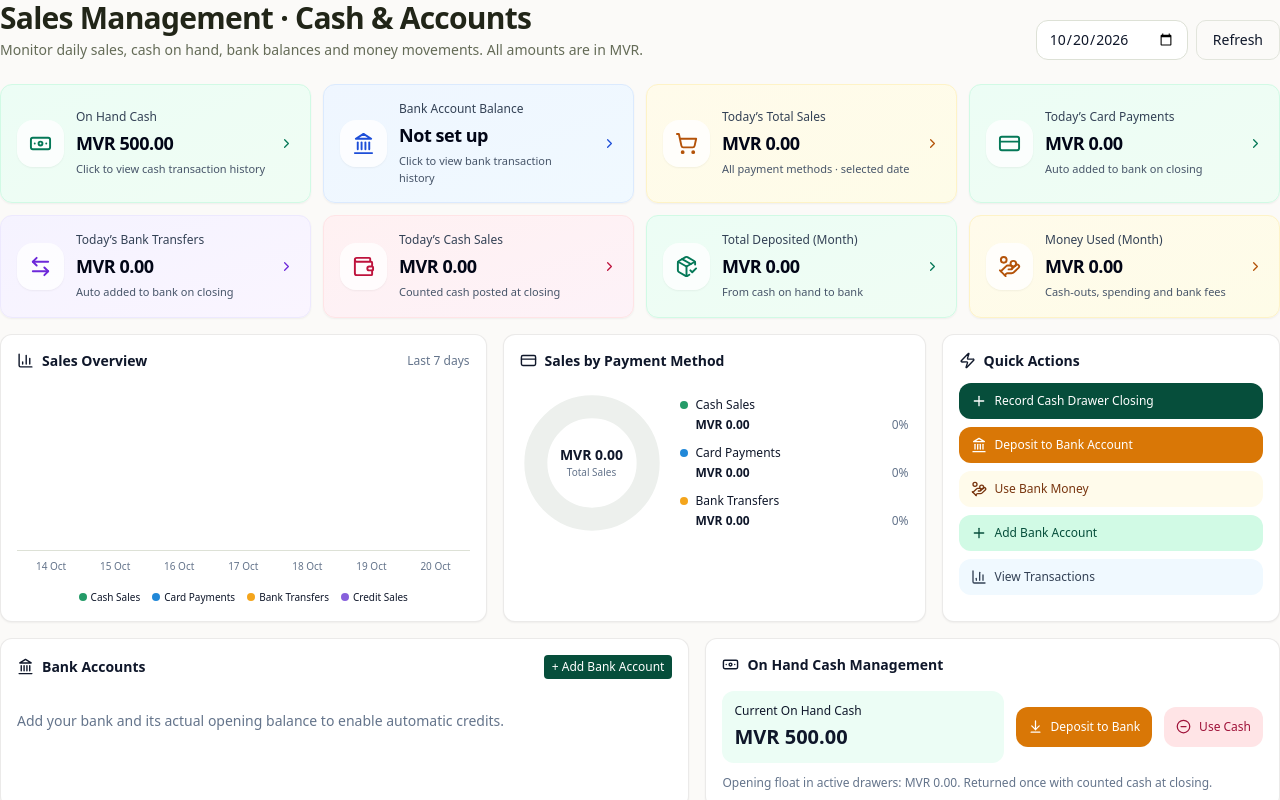
Scenario: Sales Finance › provides bank setup from a deposit with no bank accounts
The image size is (1280, 800).
Click the button "Deposit to Bank Account": (1111, 444) x1=958 y1=426 x2=1263 y2=462
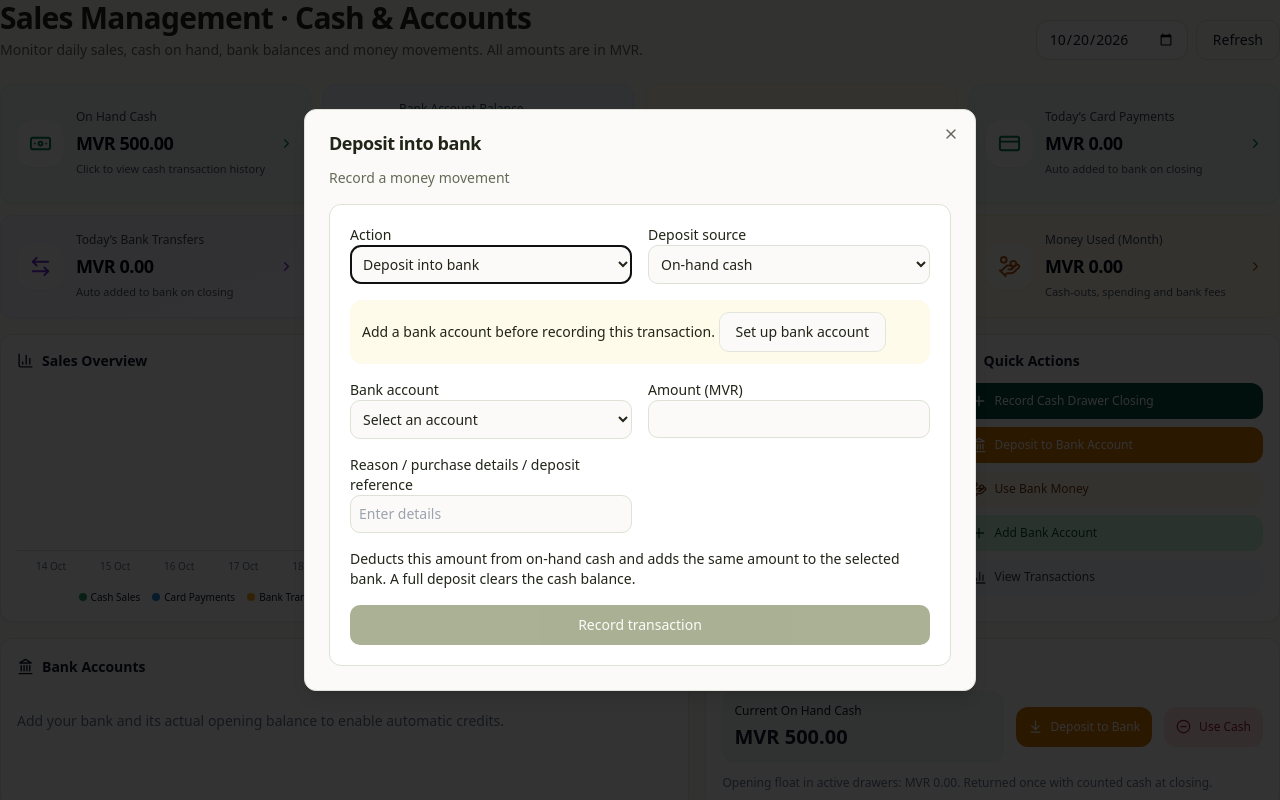
Check: the button "Record transaction" is disabled, box x1=350 y1=605 x2=930 y2=645
Click the button "Set up bank account": (802, 332) x1=718 y1=312 x2=886 y2=352
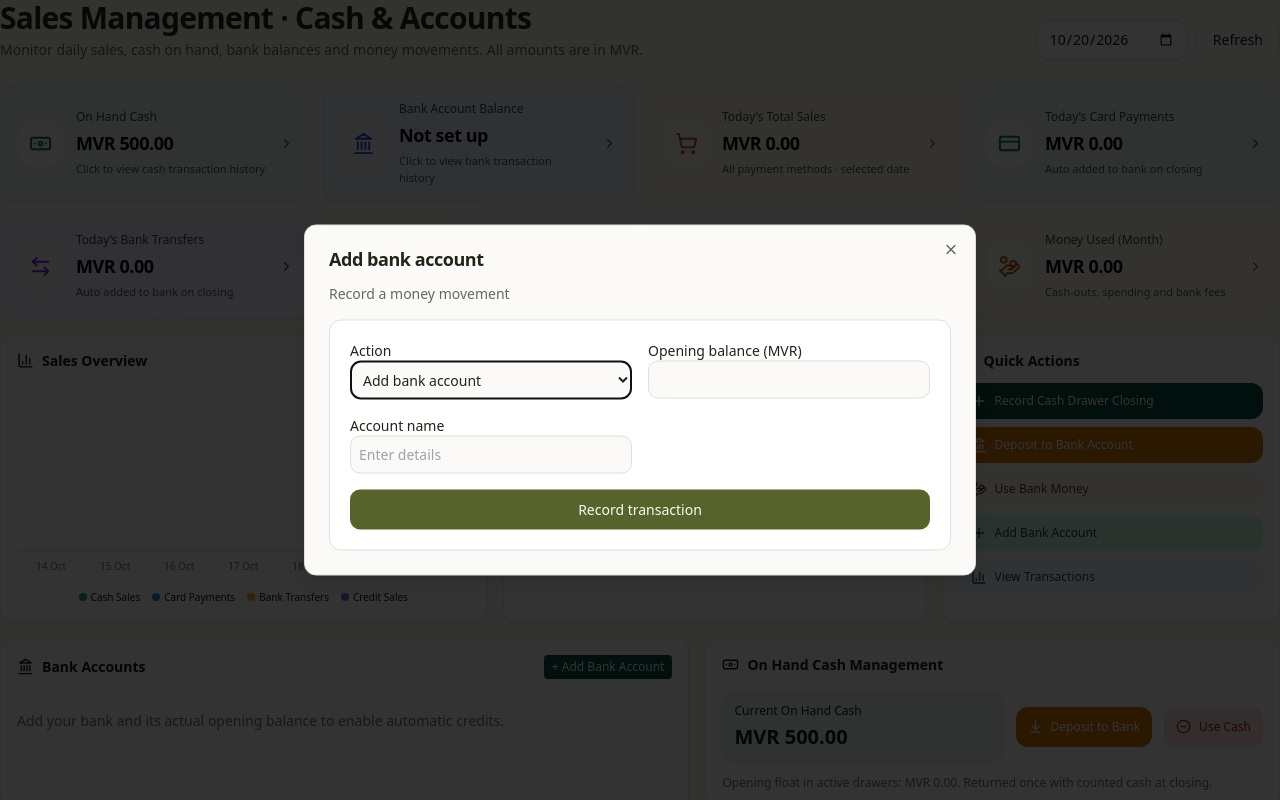
Check: the field labelled "Account name" is shown, box x1=350 y1=436 x2=632 y2=474
Check: the dropdown labelled "Action" shows "Add bank account", box x1=350 y1=360 x2=632 y2=400
